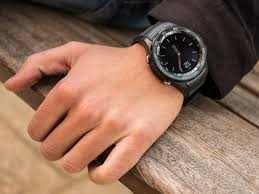clock: (150, 26, 207, 83)
